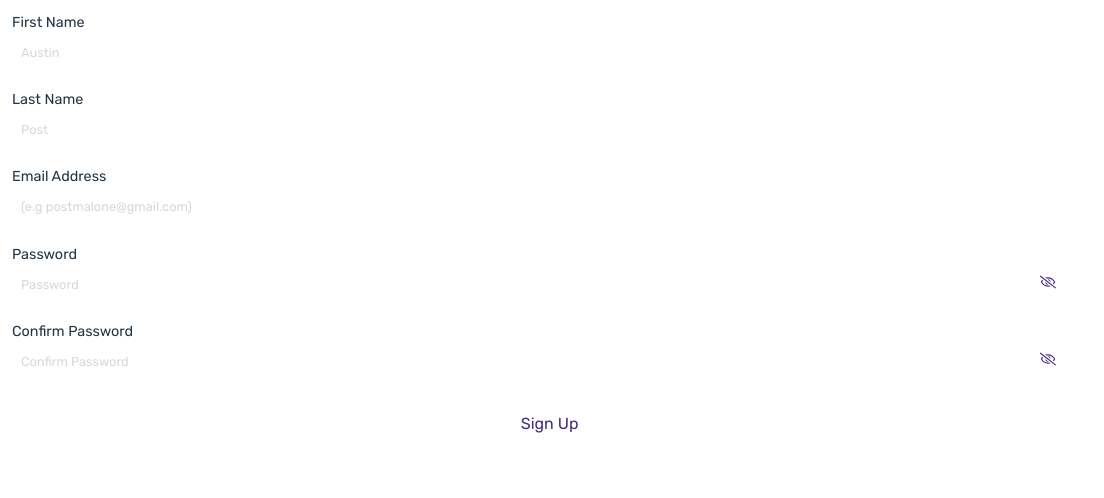
Scenario: SignUpForm › shows password strength error for weak password
In the field with placeholder "Austin": (533, 53) [12,34,1054,71], type "Alice"
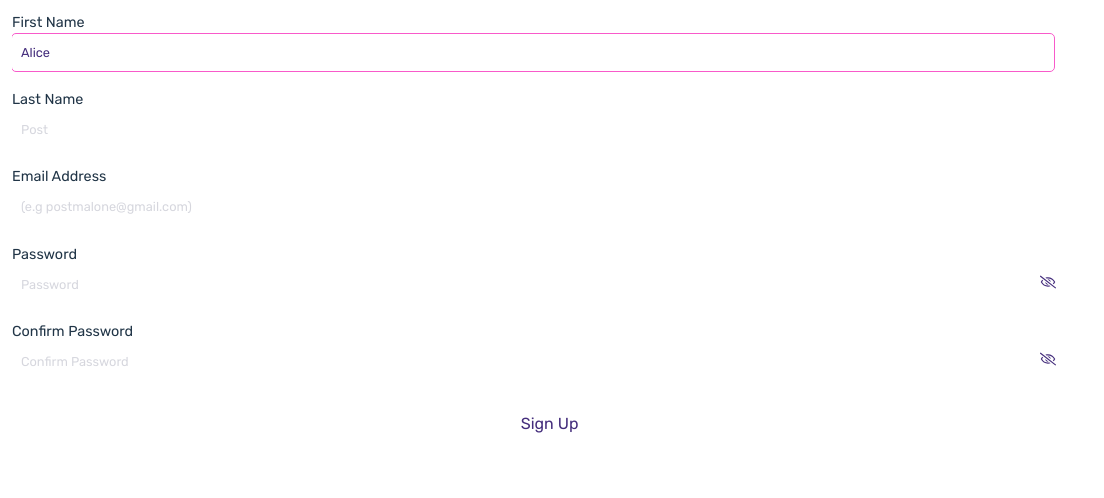
In the field with placeholder "Post": (533, 130) [12,111,1054,148], type "Smith"
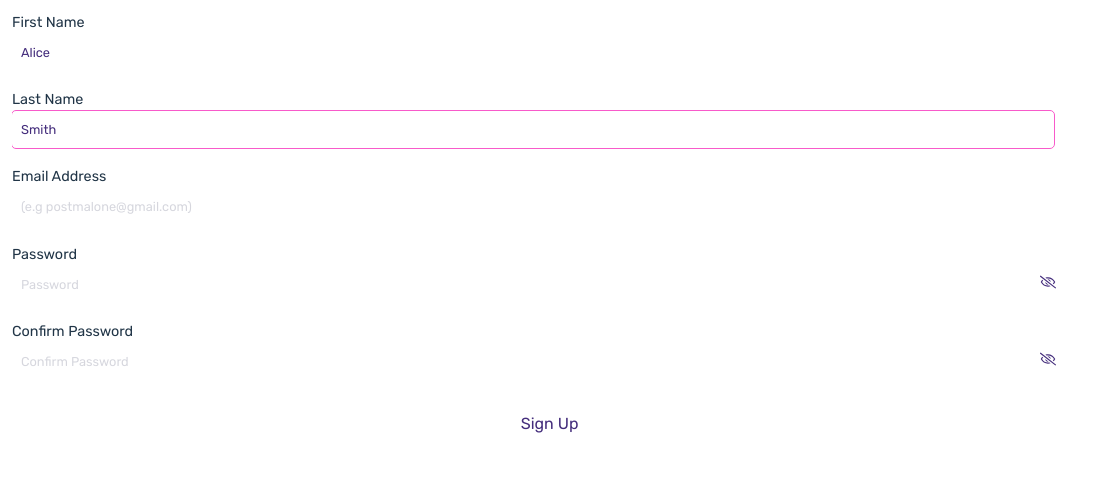
In the field with placeholder "(e.g postmalone@gmail.com)": (533, 207) [12,188,1054,226], type "alice@domain.com"
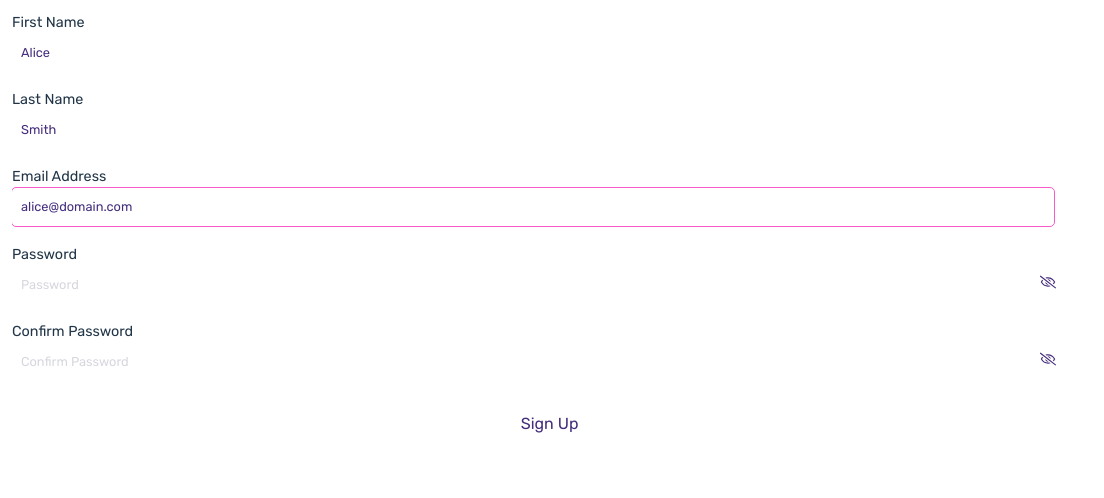
In the password field with placeholder "Password": (533, 284) [12,266,1054,303], type "weakonly"
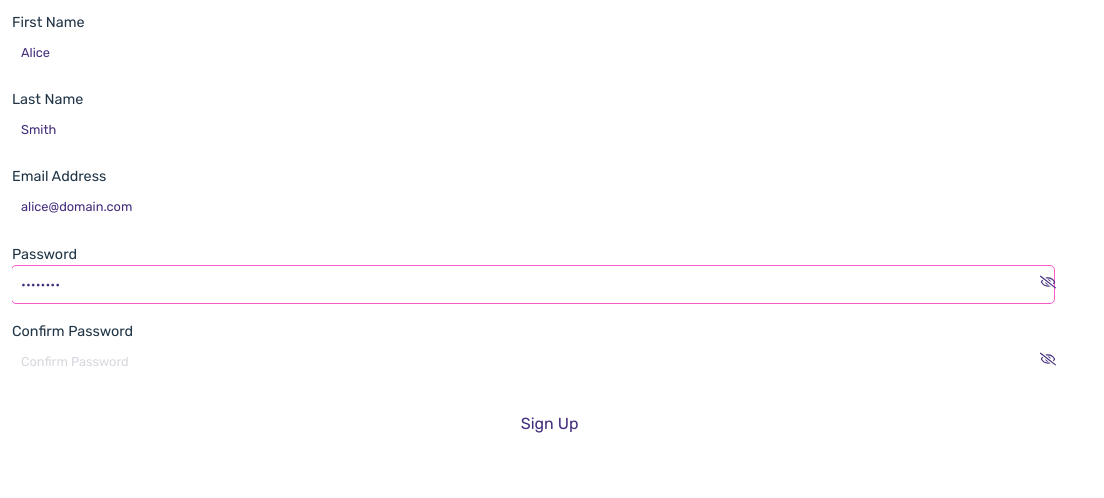
Click the button: (550, 424) [12,404,1087,444]
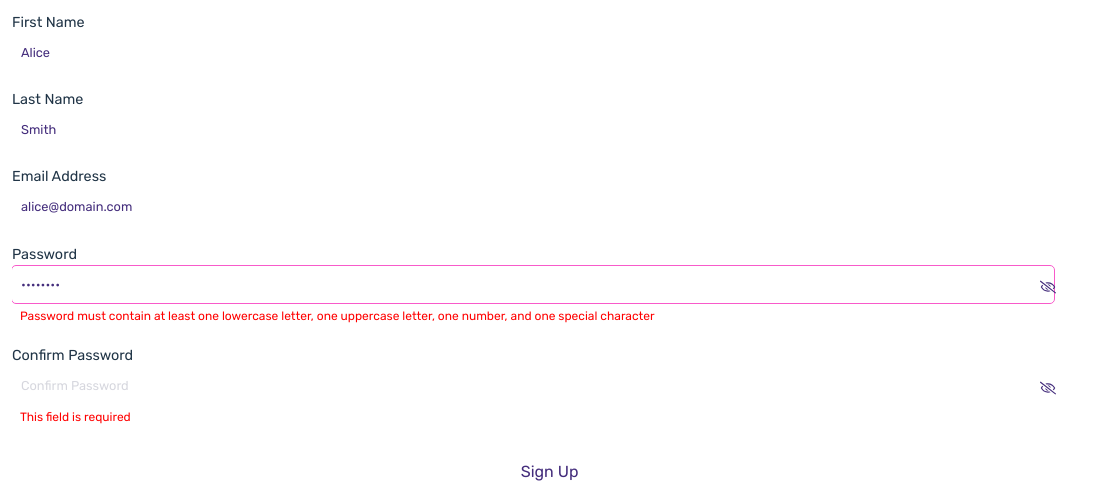
Expected: the text "uppercase letter" is shown, [20,309,655,323]
